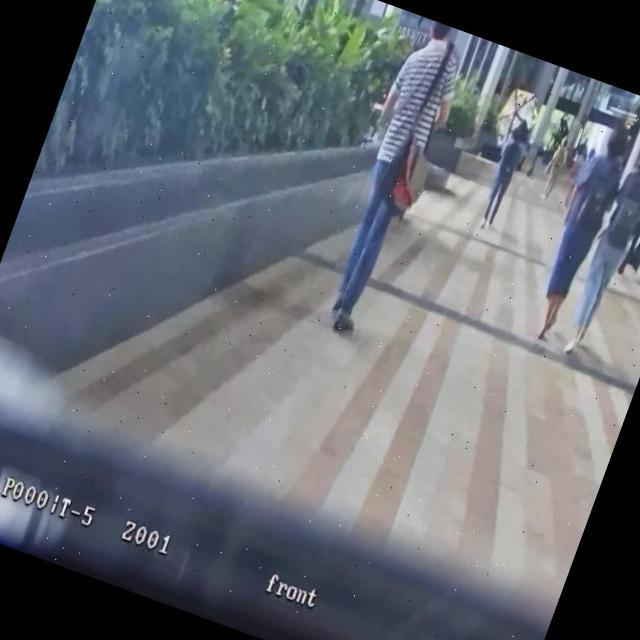person: (305, 14, 479, 342), (520, 119, 639, 350), (557, 134, 640, 363), (476, 119, 534, 234), (614, 157, 640, 286), (555, 138, 593, 210), (538, 135, 574, 204), (526, 140, 548, 179), (584, 146, 598, 166)
